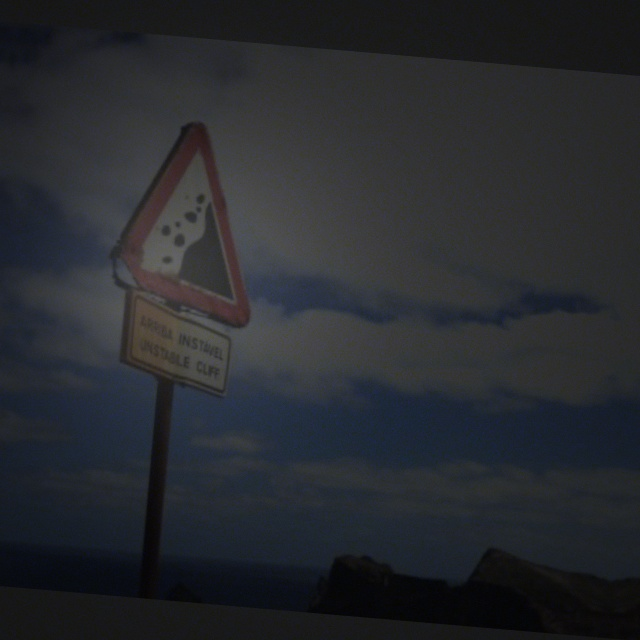Falling_Rocks: (110, 114, 268, 316)
